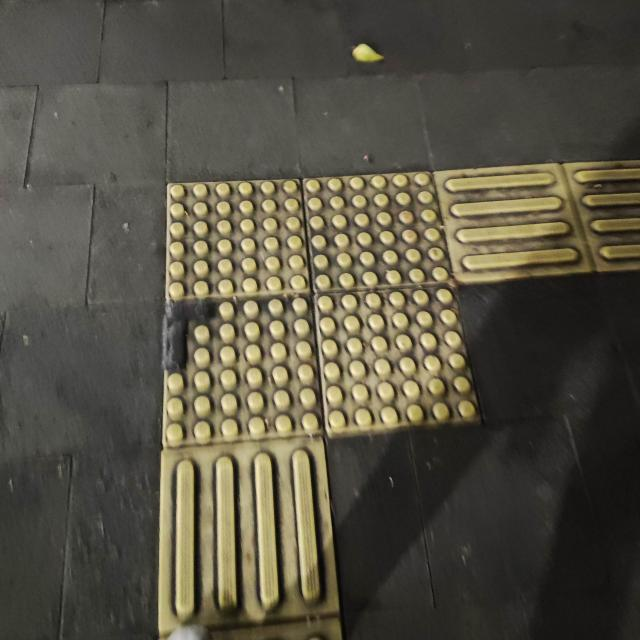kanan: (103, 140, 640, 503)
